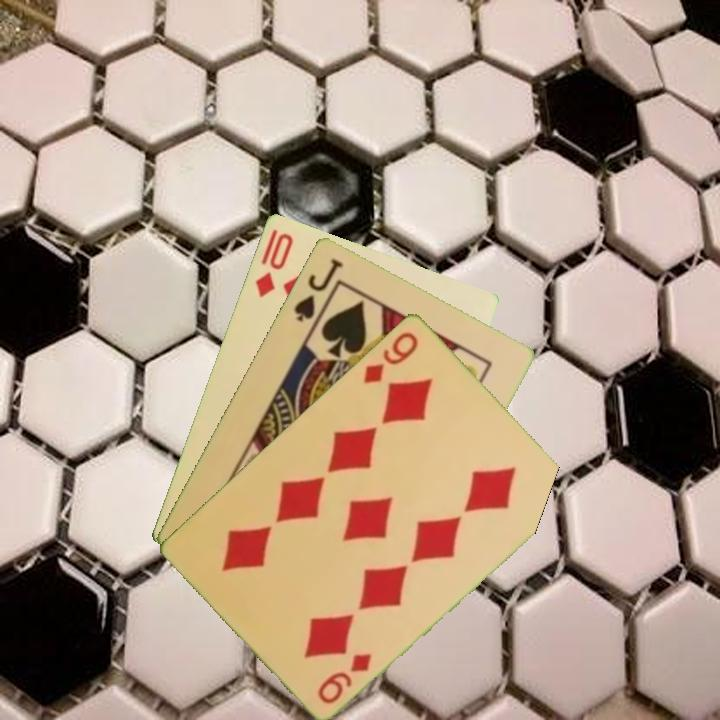10d: (251, 229, 296, 300)
9d: (359, 327, 422, 387), (314, 649, 375, 707)
Js: (290, 254, 347, 324)
